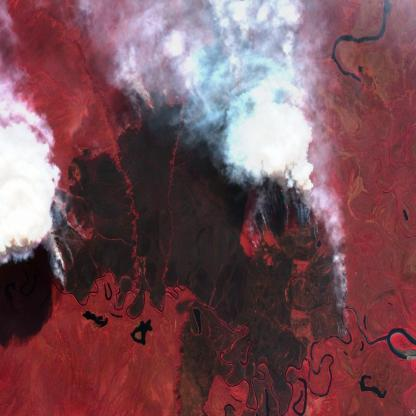fire: (28, 22, 354, 348)
